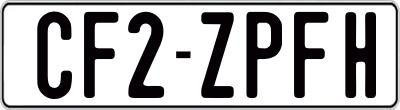2: (127, 10, 164, 100)
C: (36, 10, 75, 99)
F: (294, 9, 331, 101), (81, 11, 119, 100)
H: (345, 11, 376, 100)
P: (244, 10, 283, 101)
Z: (198, 10, 234, 98)
